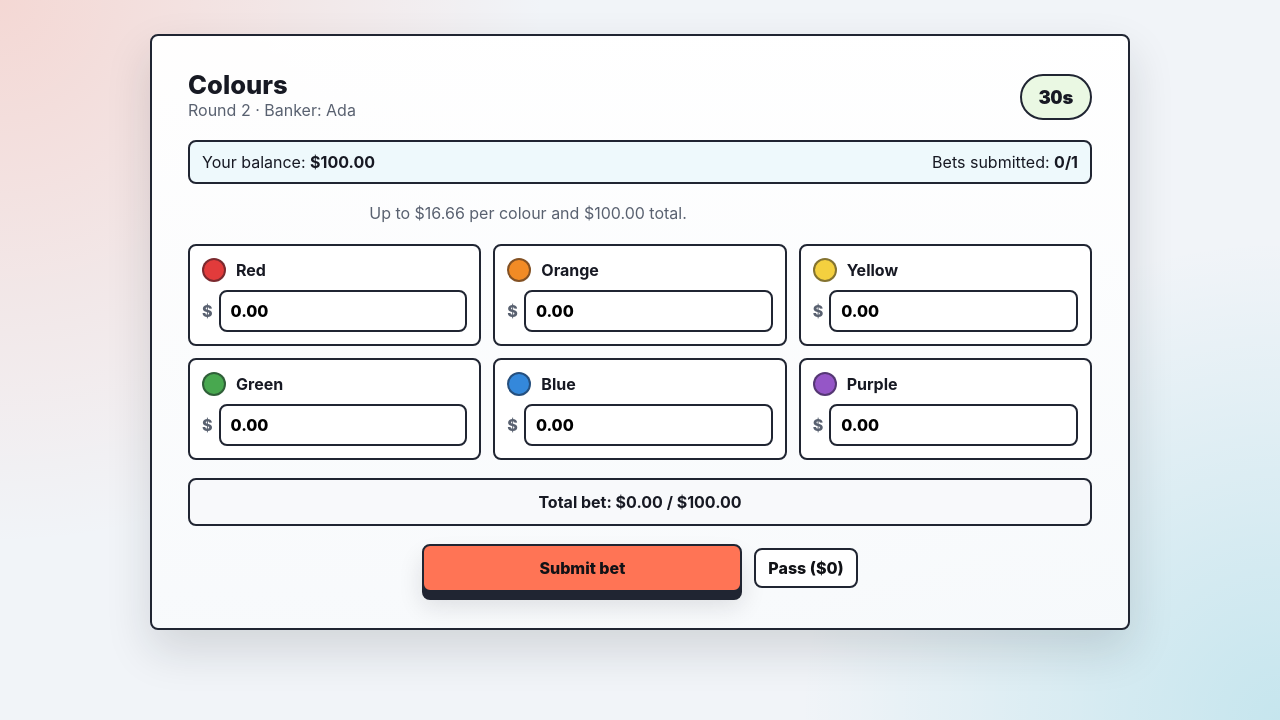
Test case: ColoursRoundScreen › prevents a colour bet above its cap
Replace the text in the field named "Blue bet" with "16.67" at (648, 425), box [524,404,773,446]
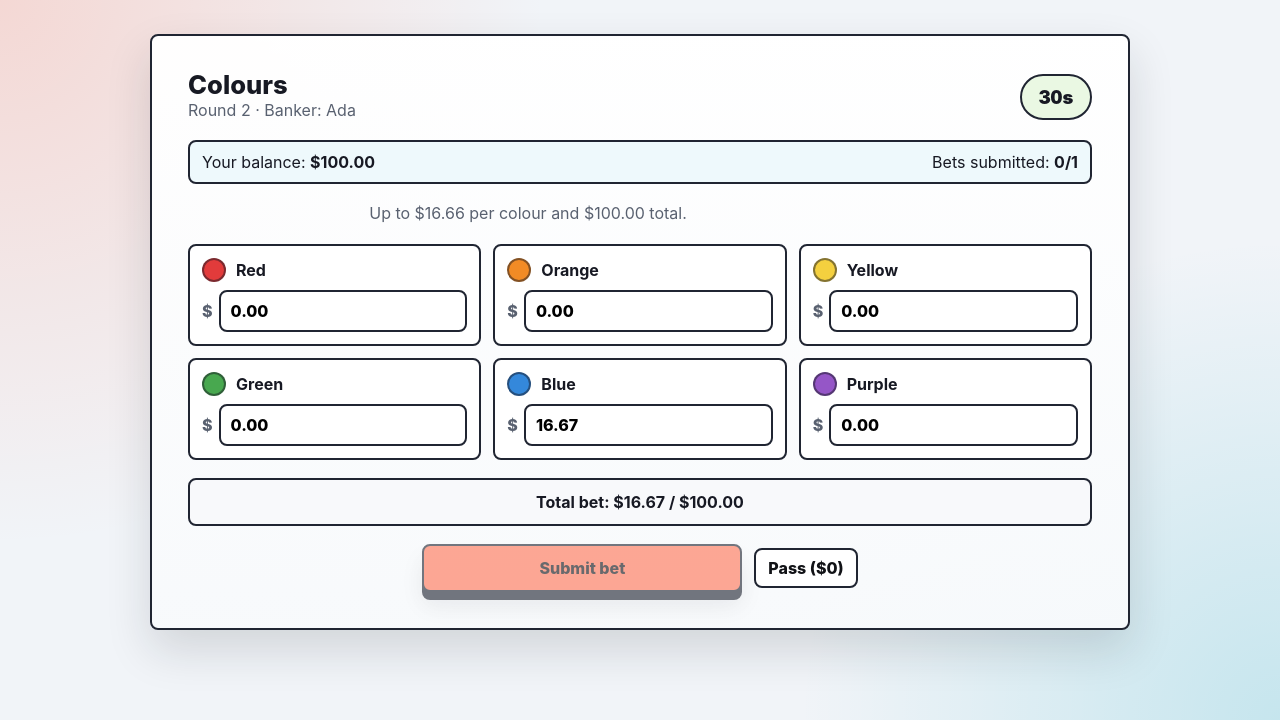
Expected: the button "Submit bet" is disabled, [422,544,742,592]
